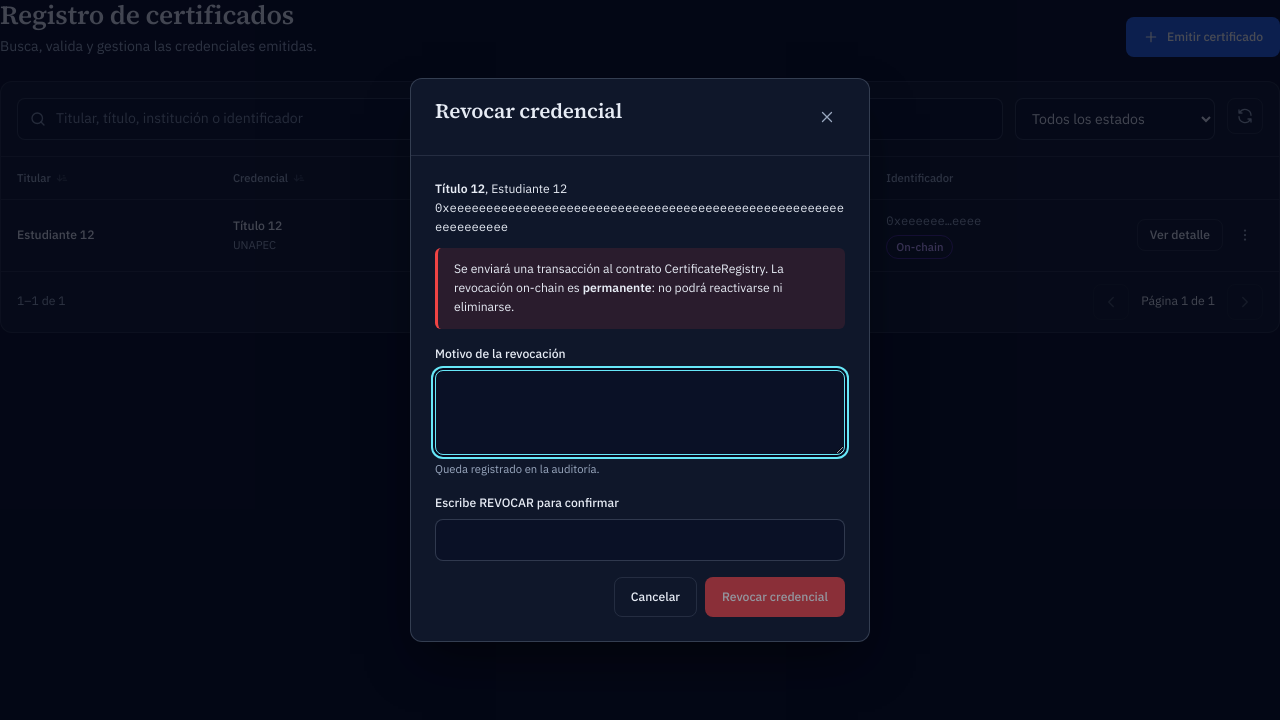
Test: certificate management › requires a reason and typed confirmation to revoke an on-chain credential
Earlier steps of the test are not shown.
Expected: the text "permanente" is shown, top-left (583, 280), bottom-right (652, 295)
Expected: the button "Revocar credencial" is disabled, top-left (705, 577), bottom-right (845, 617)
Type "Datos incorrectos en el título" into the text box labelled "Motivo de la revocación". click: {"x": 640, "y": 413}
box: top-left (435, 370), bottom-right (845, 455)
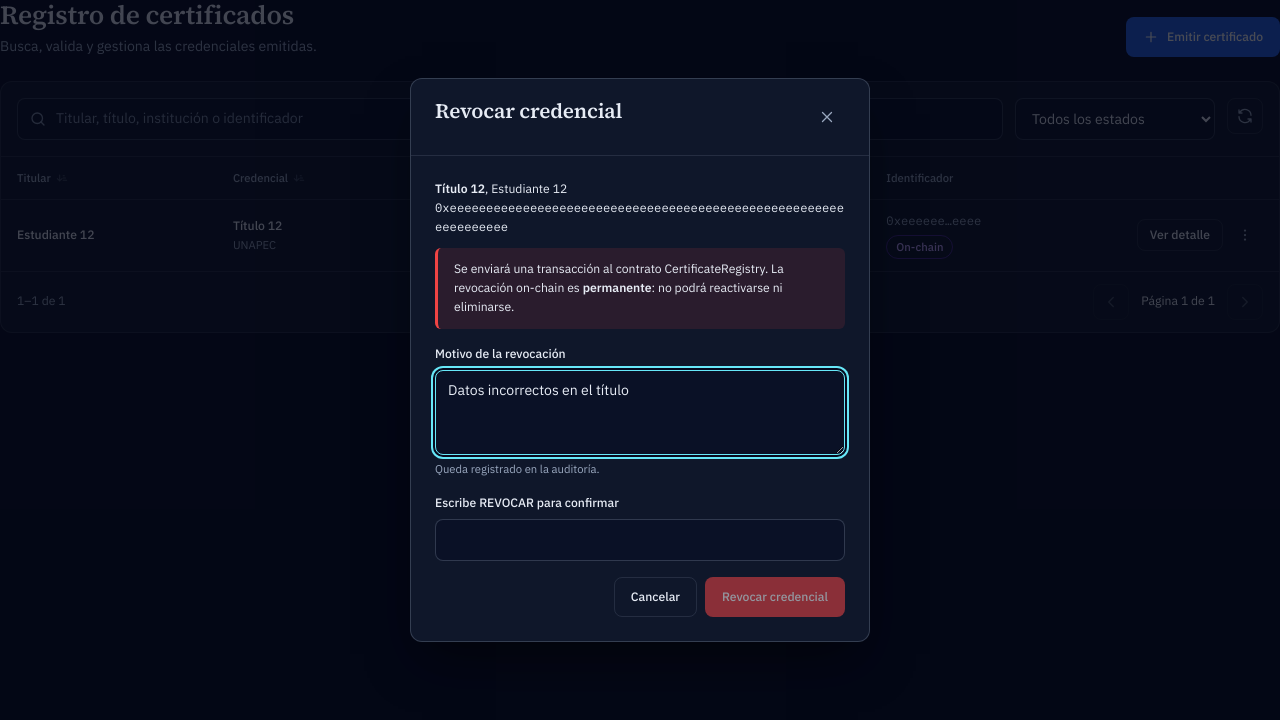
Expected: the button "Revocar credencial" is disabled, top-left (705, 577), bottom-right (845, 617)
Type "REVOCAR" into the field labelled "Escribe REVOCAR para confirmar". click: {"x": 640, "y": 540}
box: top-left (435, 519), bottom-right (845, 561)
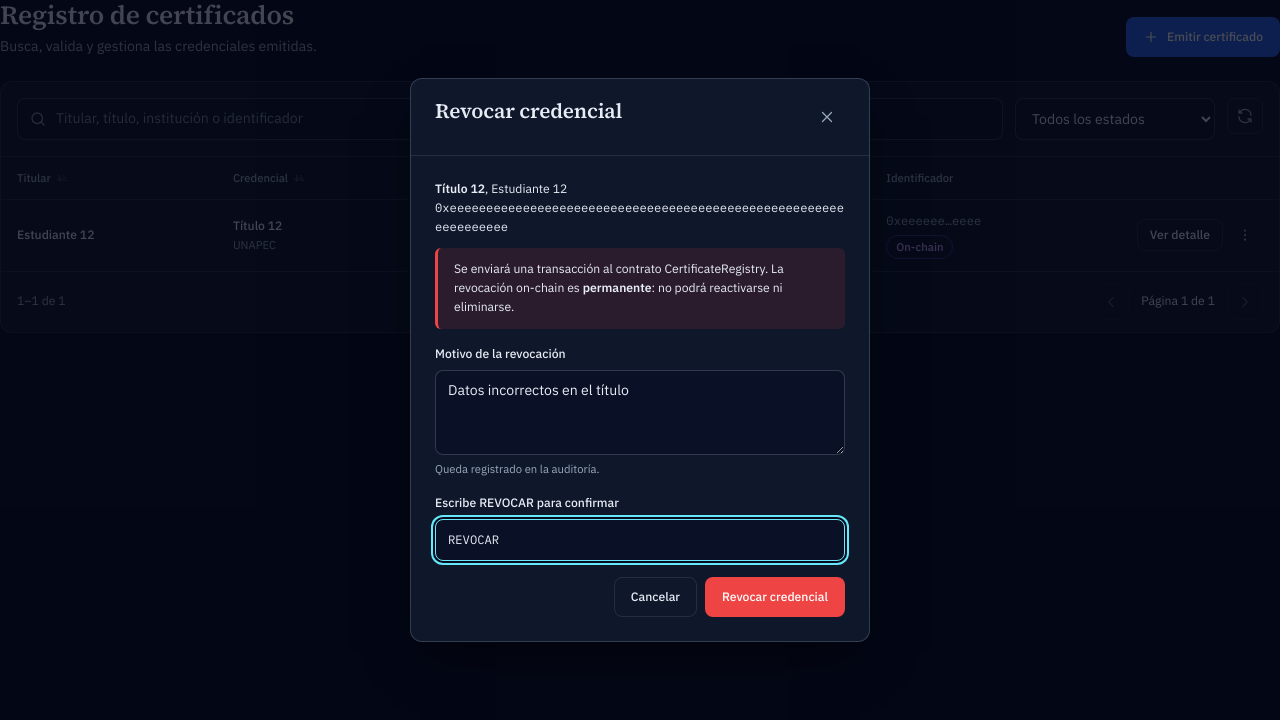
Click the button "Revocar credencial". click: {"x": 775, "y": 597}
box: top-left (705, 577), bottom-right (845, 617)
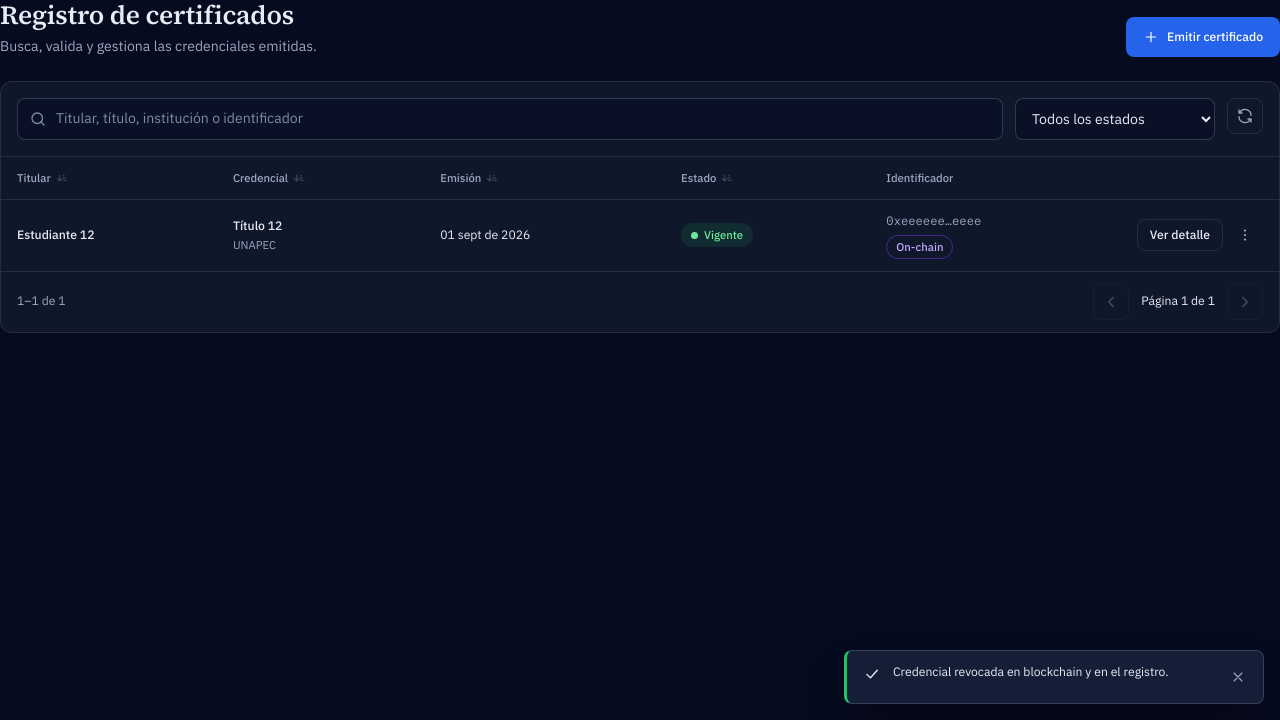
Now the dialog is gone
Now the text "Credencial revocada en blockchain y en el registro." is shown, box top-left (893, 663), bottom-right (1211, 682)
